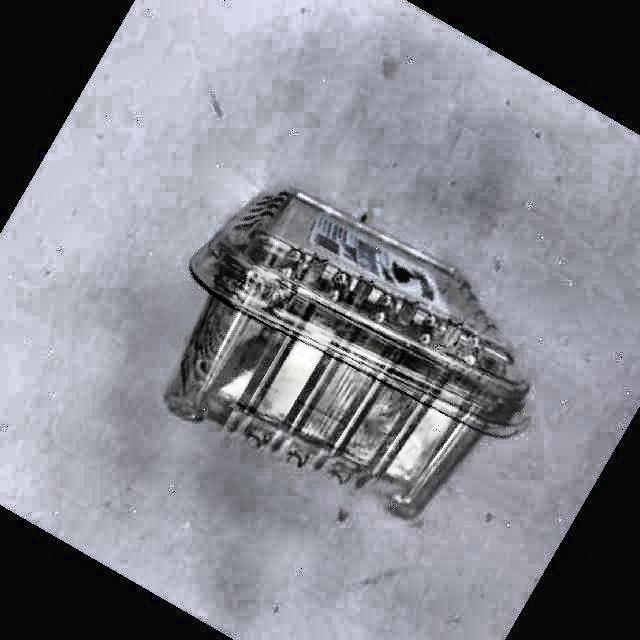plastic: (168, 190, 529, 517)
